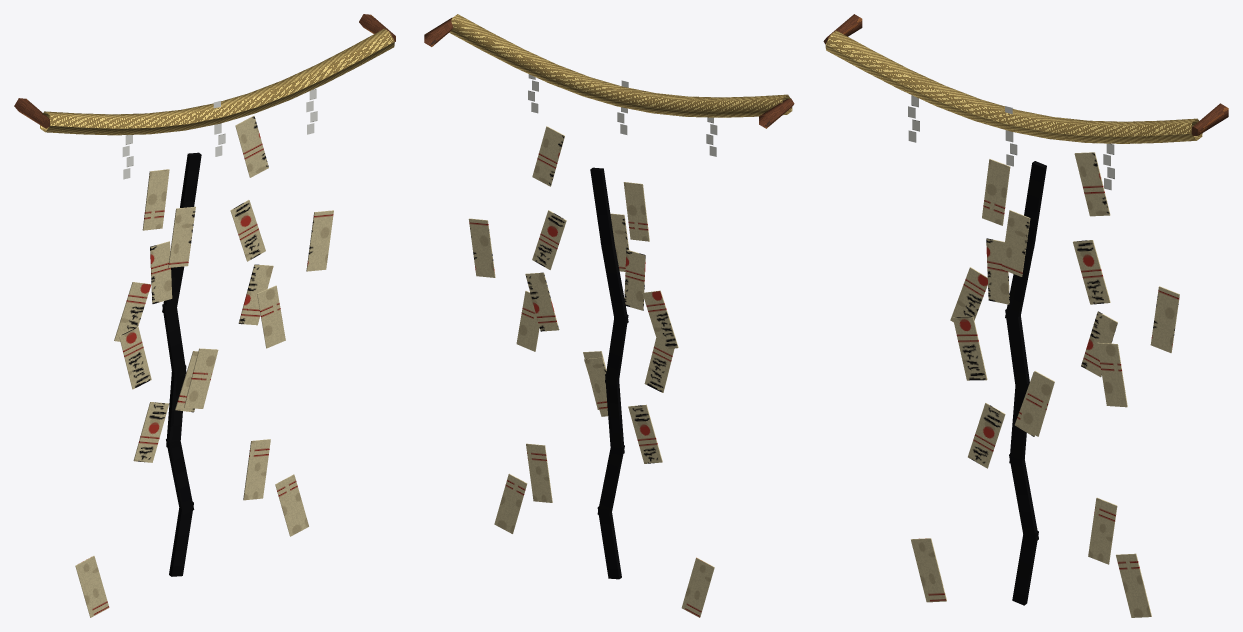
The model's file is prop_talisman.glb.
The picture shows the model from 3 angles, left to right: view 1: azimuth 30°, elevation 25°; view 2: azimuth 150°, elevation 25°; view 3: azimuth 330°, elevation 25°; orthographic projection. The views are drawn at different scales.
Parts seen in each view (by area): view 1: prop_talisman; view 2: prop_talisman; view 3: prop_talisman.
Part boxes in pixels (box(x1,y1,x2,y2)): prop_talisman: box(14, 14, 395, 617); prop_talisman: box(424, 14, 794, 617); prop_talisman: box(823, 14, 1228, 617).
Size of the model in its own units: 1.55 by 2.23 by 0.225.
5 materials, 5 textured.
